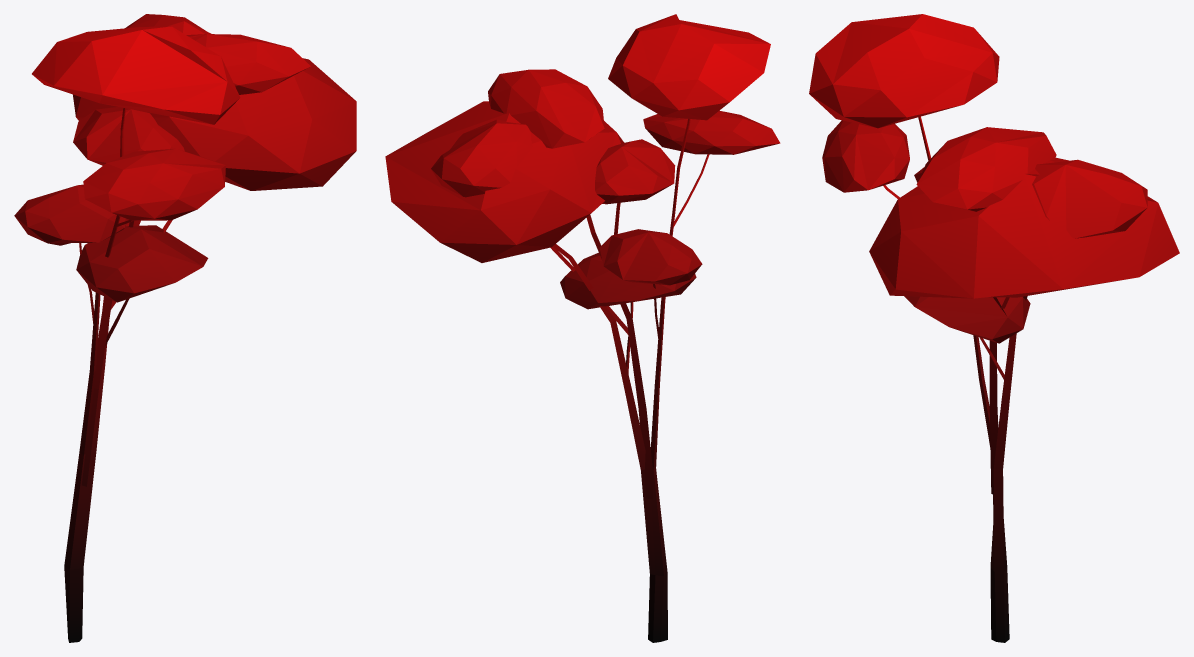
Rendered from TreeCedar08.fbx.
3 renders of one model, left to right at view 1: azimuth 30°, elevation 25°; view 2: azimuth 150°, elevation 25°; view 3: azimuth 270°, elevation 25°, orthographic. The views are drawn at different scales.
Visible parts, largest first — view 1: TreeCedar08_LOD0; view 2: TreeCedar08_LOD0; view 3: TreeCedar08_LOD0.
Boxes of the visible parts, x1=… form: TreeCedar08_LOD0: x1=14, y1=14, x2=356, y2=642; TreeCedar08_LOD0: x1=385, y1=14, x2=780, y2=642; TreeCedar08_LOD0: x1=809, y1=14, x2=1179, y2=642.
Size of what is drawn, in the model's own units: 534 by 964 by 523.
